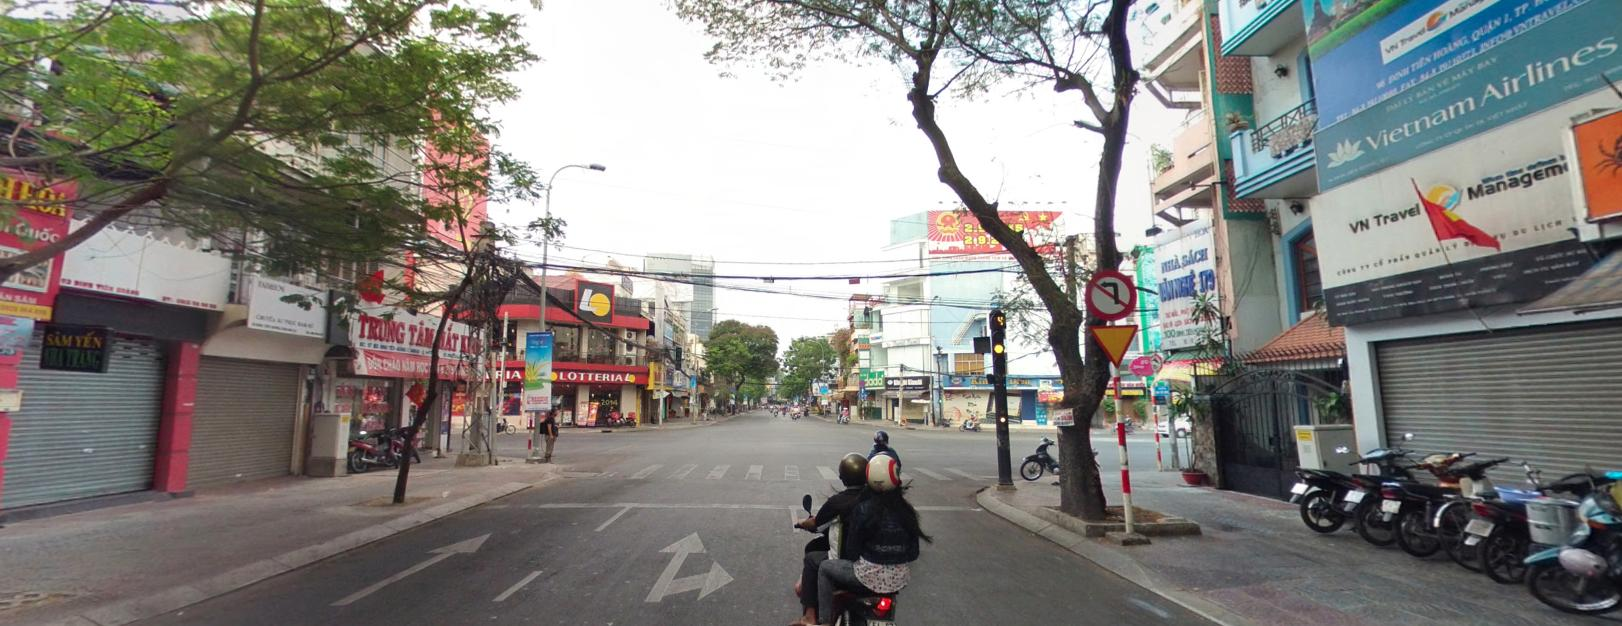Cam dung va do: (858, 378, 865, 384)
Cam re: (1084, 269, 1137, 318)
Nguy hiem: (1086, 321, 1139, 367)
